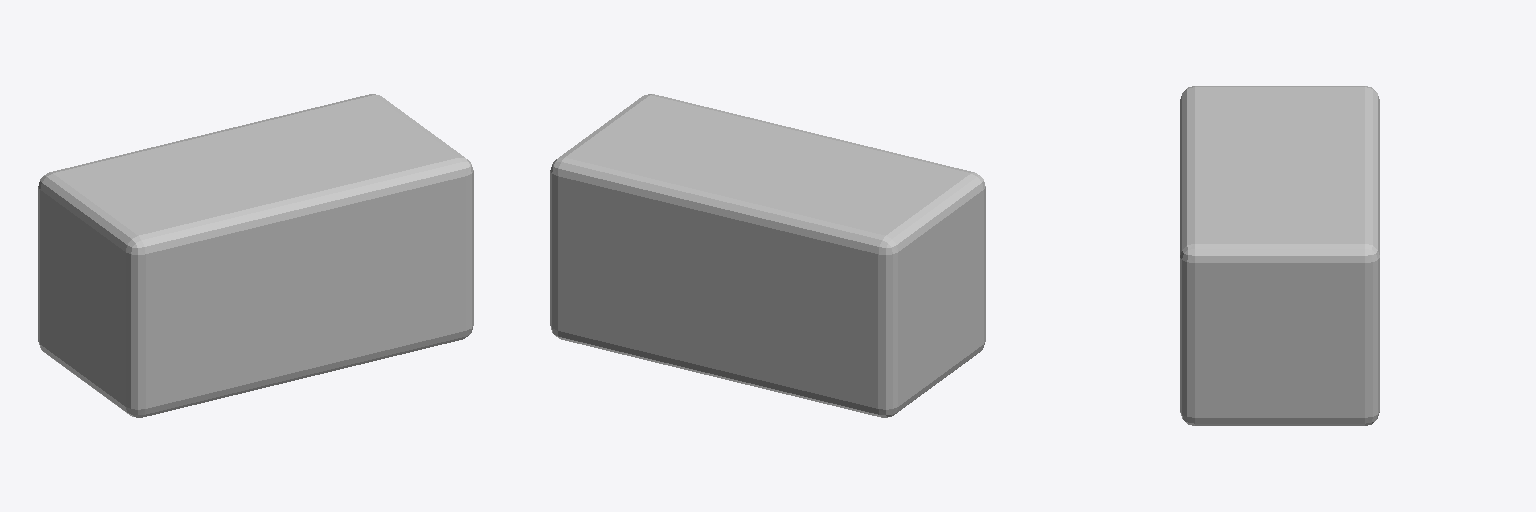
The model's file is brick.obj.
3 renders of one model, left to right at view 1: azimuth 30°, elevation 25°; view 2: azimuth 150°, elevation 25°; view 3: azimuth 270°, elevation 25°, orthographic.
Parts seen in each view (by area): view 1: Cube; view 2: Cube; view 3: Cube.
Part boxes in pixels (x1,y1,x2,y2): Cube: (38,94,473,417); Cube: (550,94,985,417); Cube: (1180,86,1379,425).
Size of the model in its own units: 3 by 1.5 by 1.5.